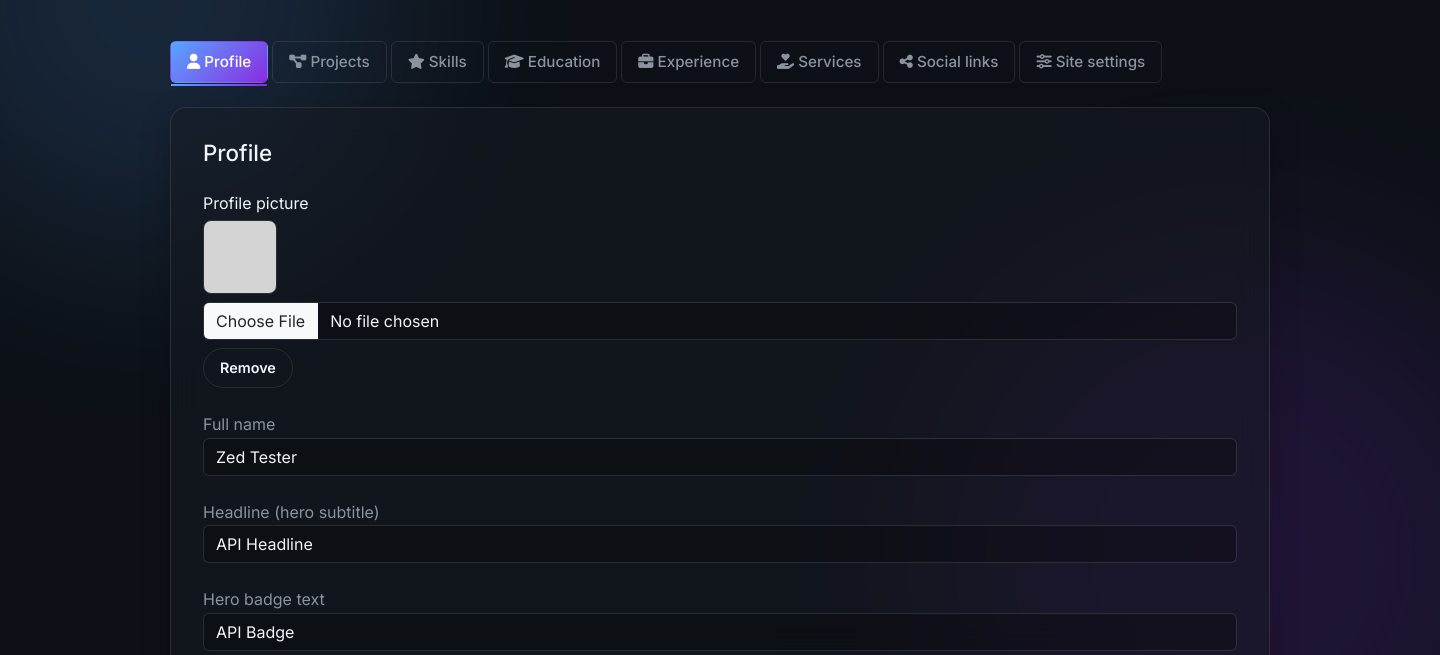
Test: admin dashboard › saves the profile with the right payload (PUT, bearer token, converted fields)
Replace the text in the field labelled "Full name" with "New Name" at x=720, y=457, box x1=203 y1=438 x2=1237 y2=476
(page scrolled)
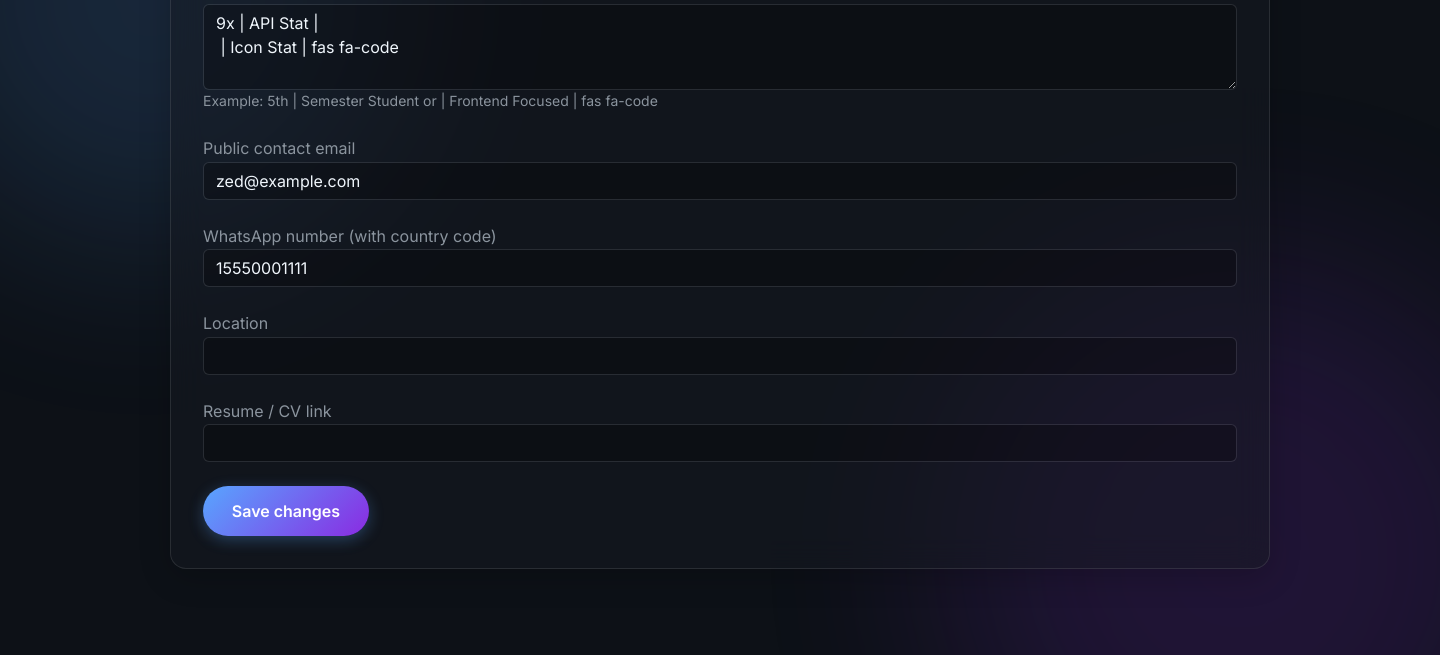
Click the button "Save changes" at x=286, y=511, box x1=203 y1=486 x2=369 y2=536
(page scrolled)
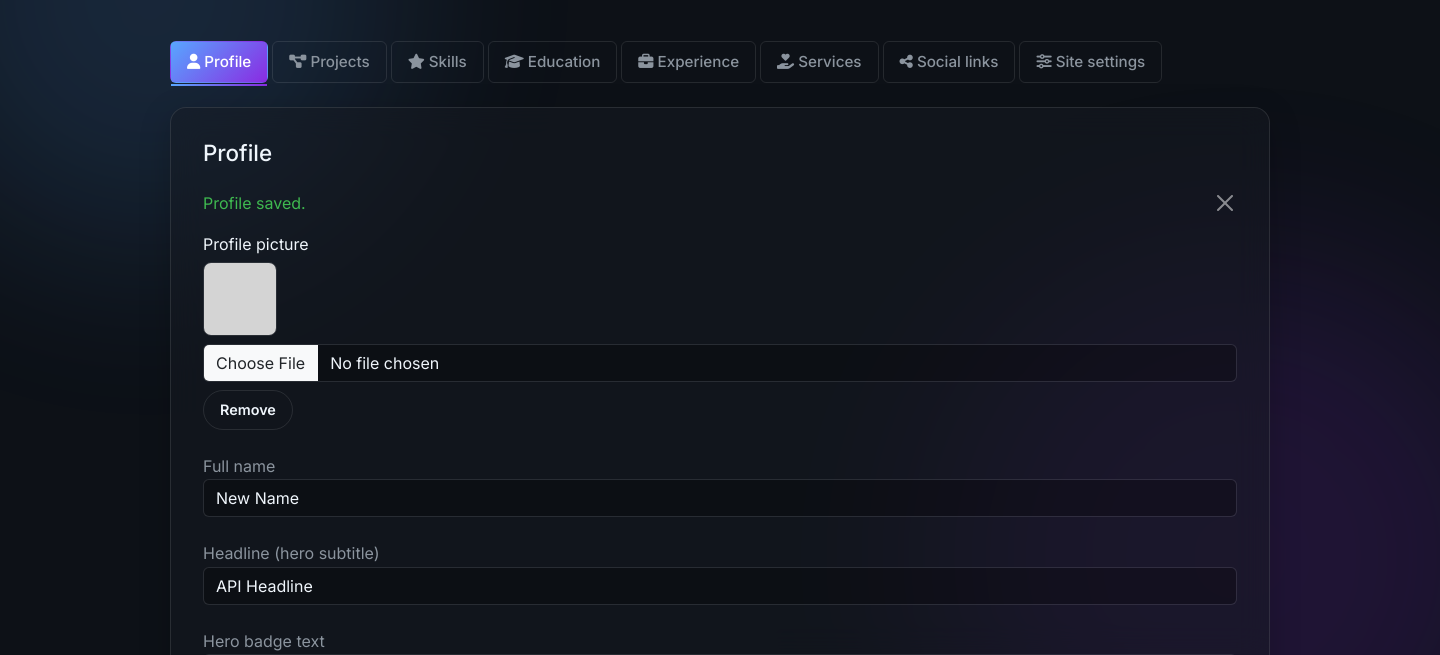
Expected: the text "Profile saved." is shown, x1=203 y1=191 x2=1237 y2=216
